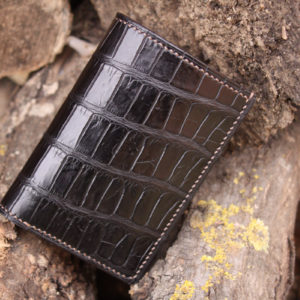monedero: (1, 11, 259, 287)
